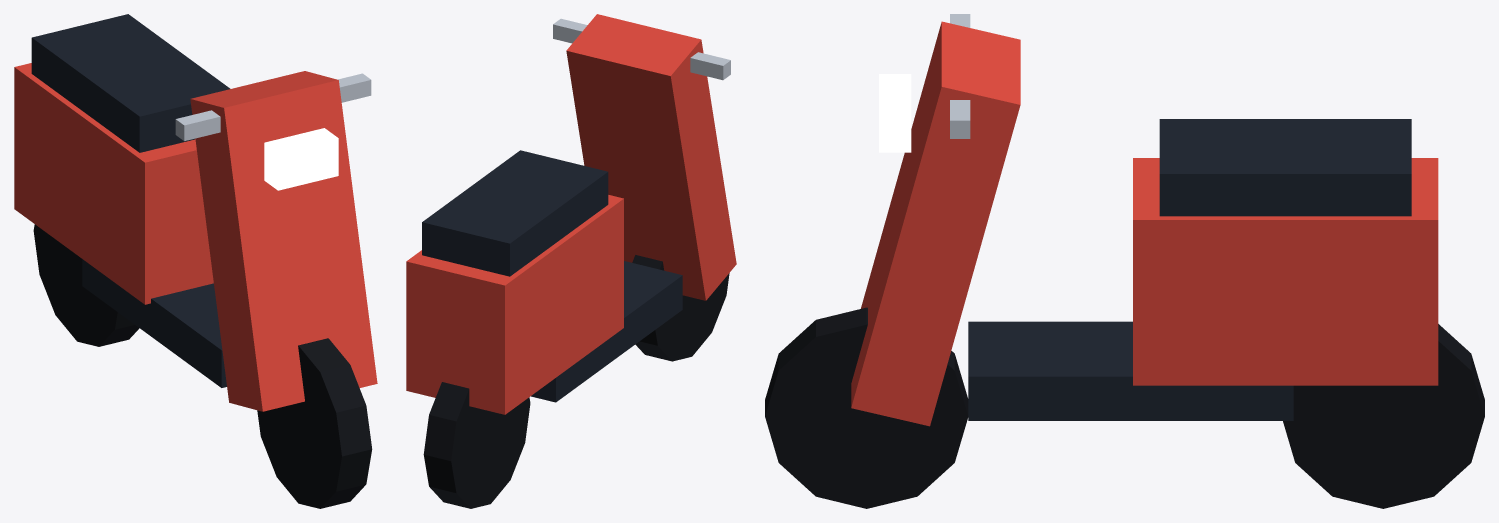
Rendered from scooter_red.glb.
The picture shows the model from 3 angles, left to right: view 1: azimuth 30°, elevation 25°; view 2: azimuth 150°, elevation 25°; view 3: azimuth 270°, elevation 25°; orthographic projection. The views are drawn at different scales.
Parts seen in each view (by area): view 1: scooter; view 2: scooter; view 3: scooter.
Boxes of the visible parts, box(x1,y1,x2,y2) form: scooter: box(14, 14, 377, 508); scooter: box(406, 14, 736, 508); scooter: box(765, 14, 1484, 508).
Size of the model in its own units: 0.62 by 1.21 by 1.77.
